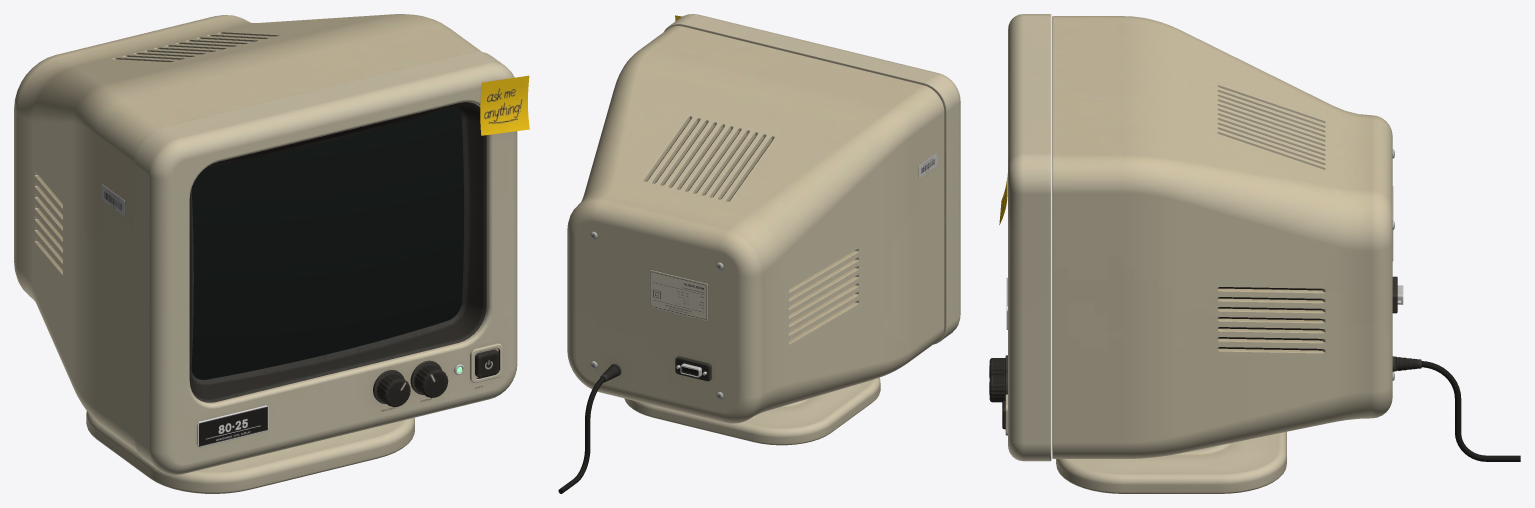
File: monitor.glb
The picture shows the model from 3 angles, left to right: view 1: azimuth 30°, elevation 25°; view 2: azimuth 150°, elevation 25°; view 3: azimuth 270°, elevation 25°; orthographic projection. The views are drawn at different scales.
Parts seen in each view (by area): view 1: Body, Screen, KnobBrightness, KnobContrast, PowerButton; view 2: Body; view 3: Body.
Boxes of the visible parts, x1=… form: Body: x1=14, y1=14, x2=529, y2=493; Screen: x1=191, y1=108, x2=463, y2=379; KnobBrightness: x1=373, y1=370, x2=410, y2=407; KnobContrast: x1=410, y1=360, x2=448, y2=397; PowerButton: x1=475, y1=349, x2=499, y2=377; Body: x1=558, y1=14, x2=960, y2=493; Body: x1=999, y1=14, x2=1520, y2=493.
Size of the model in its own units: 0.4062 by 0.405 by 0.5524.
Materials: 3 (1 with a texture image).
